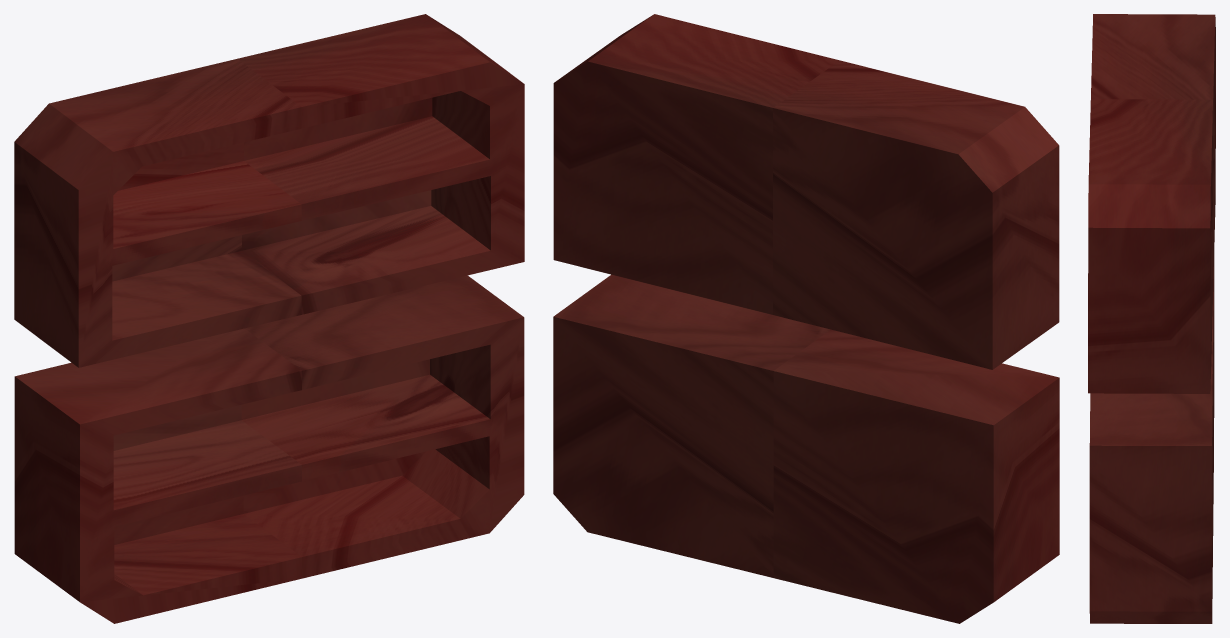
Rendered from shelf.fbx.
The picture shows the model from 3 angles, left to right: view 1: azimuth 30°, elevation 25°; view 2: azimuth 150°, elevation 25°; view 3: azimuth 270°, elevation 25°; orthographic projection. The views are drawn at different scales.
Parts seen in each view (by area): view 1: Shelf dark; view 2: Shelf dark; view 3: Shelf dark.
Boxes of the visible parts, x1,y1,x2,y2 form: Shelf dark: (14,14,524,623); Shelf dark: (553,14,1059,623); Shelf dark: (1088,14,1215,623).
Bounding box in the file's own units: 671 × 680 × 179.
1 material, 1 textured.
